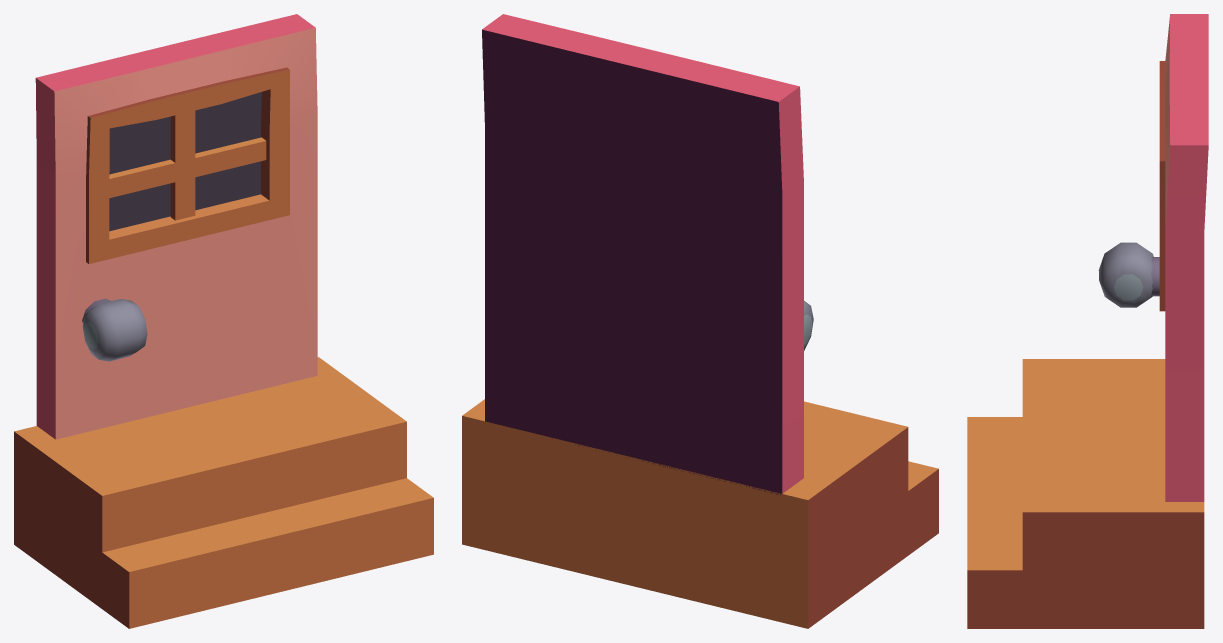
File: Door02_Pink_Wood.glb
The picture shows the model from 3 angles, left to right: view 1: azimuth 30°, elevation 25°; view 2: azimuth 150°, elevation 25°; view 3: azimuth 270°, elevation 25°; orthographic projection. The views are drawn at different scales.
Parts seen in each view (by area): view 1: Door02_Pink_Wood; view 2: Door02_Pink_Wood; view 3: Door02_Pink_Wood.
Part boxes in pixels (box(x1,y1,x2,y2)): Door02_Pink_Wood: box(14, 14, 433, 628); Door02_Pink_Wood: box(462, 14, 938, 628); Door02_Pink_Wood: box(967, 14, 1208, 628).
Bounding box in the file's own units: 0.9795 × 1.41 × 0.6527.
1 material, 1 textured.
